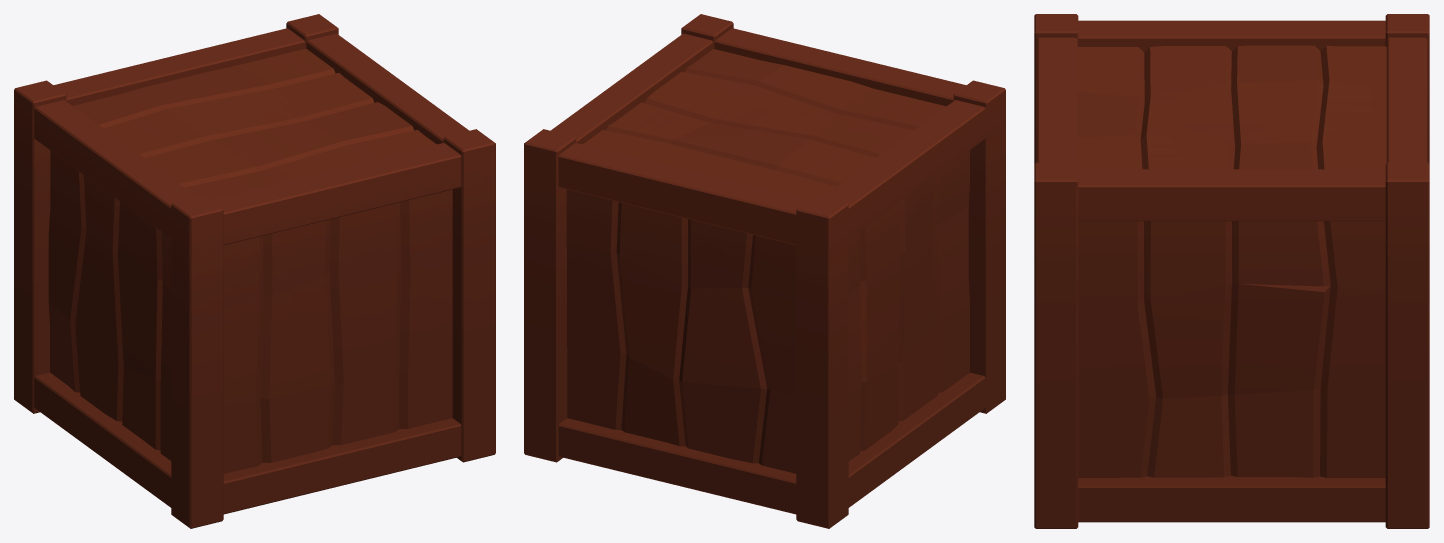
File: FBX_Crate.fbx
The picture shows the model from 3 angles, left to right: view 1: azimuth 30°, elevation 25°; view 2: azimuth 150°, elevation 25°; view 3: azimuth 270°, elevation 25°; orthographic projection. The views are drawn at different scales.
Parts seen in each view (by area): view 1: M_crate; view 2: M_crate; view 3: M_crate.
Boxes of the visible parts, left/top/right/bottom form: M_crate: left=14, top=14, right=495, bottom=528; M_crate: left=524, top=14, right=1005, bottom=528; M_crate: left=1034, top=14, right=1429, bottom=528.
Bounding box in the file's own units: 2.25 × 2.19 × 2.25.
